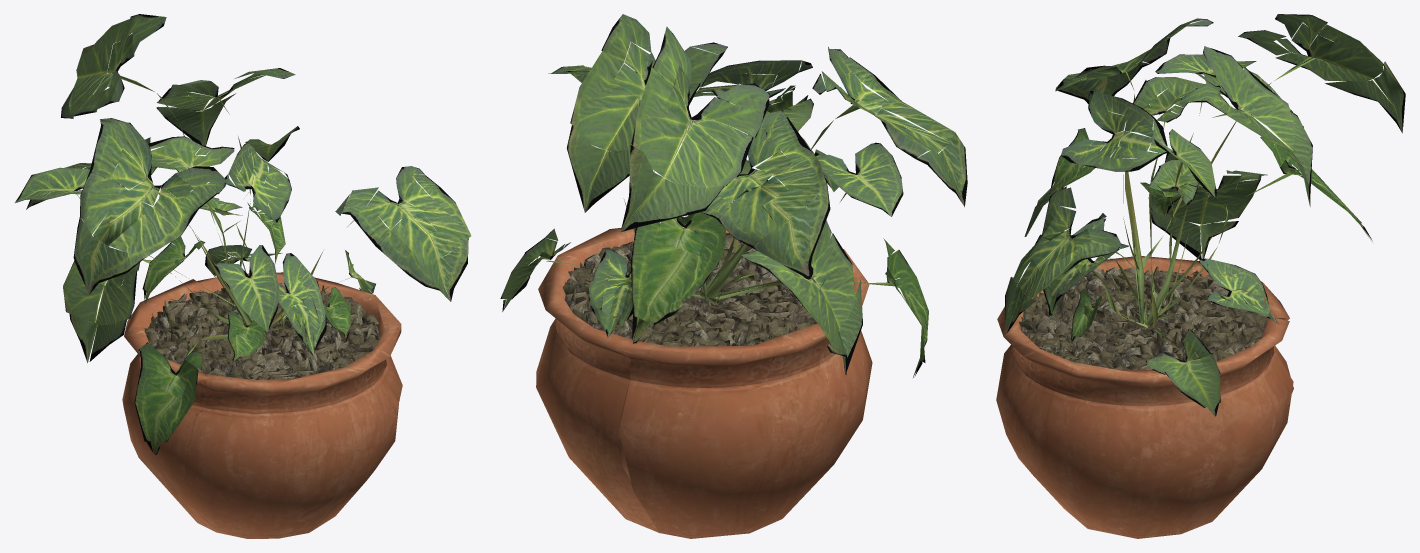
File: potted_plant_02.glb
The picture shows the model from 3 angles, left to right: view 1: azimuth 30°, elevation 25°; view 2: azimuth 150°, elevation 25°; view 3: azimuth 270°, elevation 25°; orthographic projection. The views are drawn at different scales.
Parts seen in each view (by area): view 1: potted_plant_02_leaves, potted_plant_02_dirt; view 2: potted_plant_02_leaves, potted_plant_02_dirt; view 3: potted_plant_02_dirt, potted_plant_02_leaves.
Boxes of the visible parts, box(x1,y1,x2,y2) form: potted_plant_02_leaves: box(15, 14, 471, 454); potted_plant_02_dirt: box(122, 272, 402, 538); potted_plant_02_leaves: box(500, 14, 967, 377); potted_plant_02_dirt: box(536, 224, 872, 538); potted_plant_02_dirt: box(996, 256, 1293, 538); potted_plant_02_leaves: box(1005, 14, 1405, 416).
Size of the model in its own units: 0.6977 by 0.8422 by 0.6578.
Materials: 2 (2 with a texture image).
